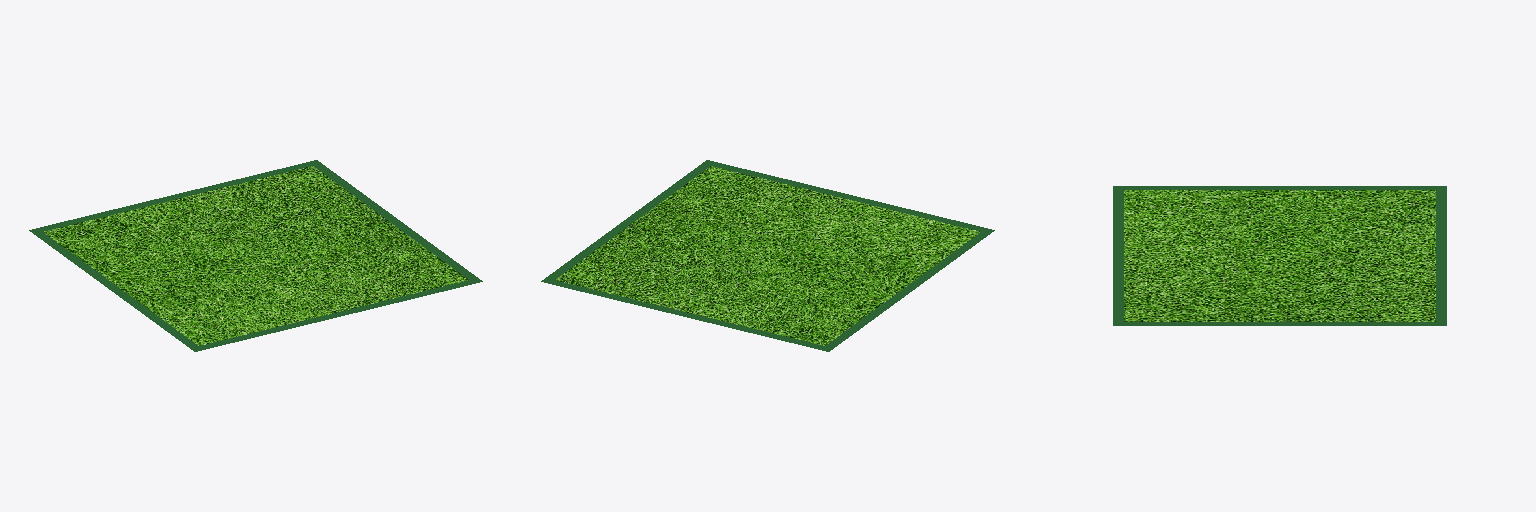
The picture shows the model from 3 angles: view 1: azimuth 30°, elevation 25°; view 2: azimuth 150°, elevation 25°; view 3: azimuth 270°, elevation 25°; orthographic projection.
Parts seen in each view (by area): view 1: ground; view 2: ground; view 3: ground.
Boxes of the visible parts, x1,y1,x2,y2 form: ground: [29, 160, 482, 351]; ground: [541, 160, 994, 351]; ground: [1113, 186, 1446, 325].
Bounding box in the file's own units: 1 × 0 × 1.
1 materials, 1 textured.